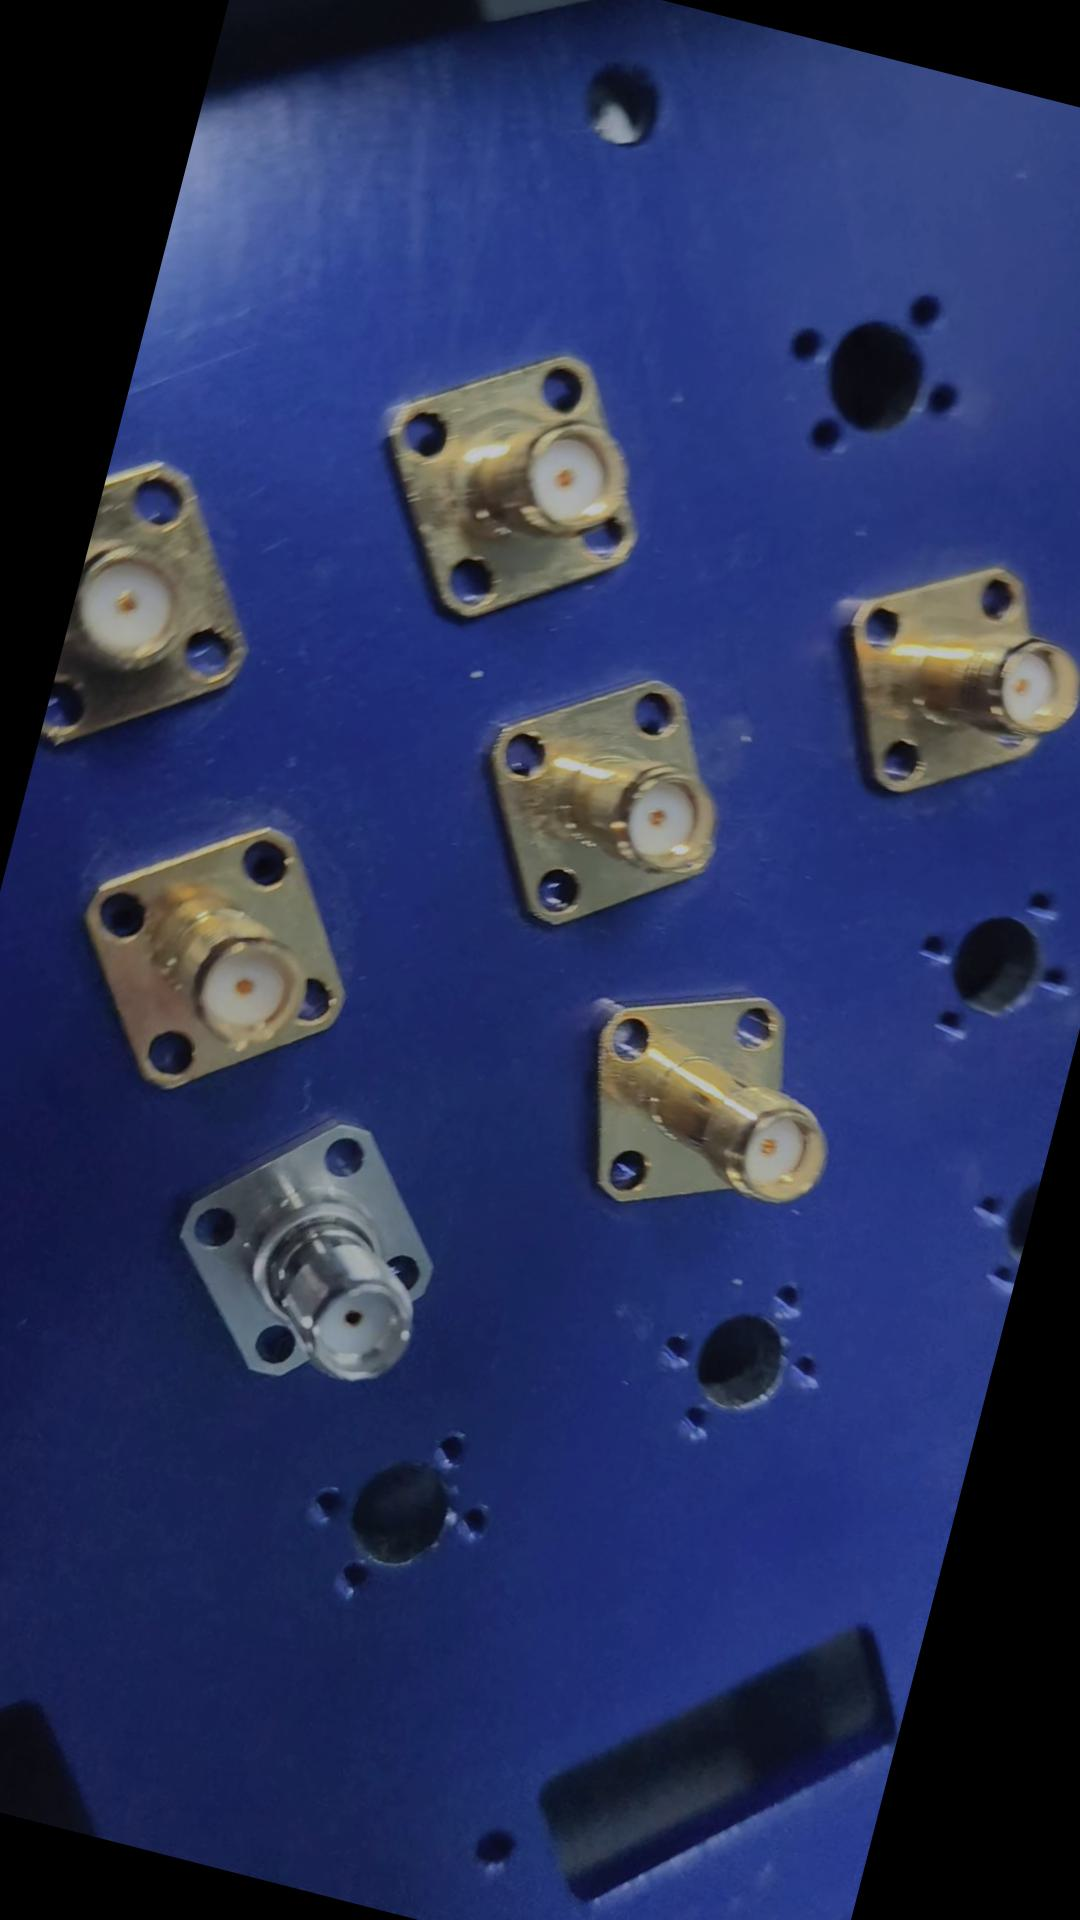SMA: (51, 775, 396, 1131), (152, 1075, 480, 1425), (356, 315, 676, 658), (463, 641, 762, 968), (556, 961, 868, 1258), (803, 531, 1079, 843)
